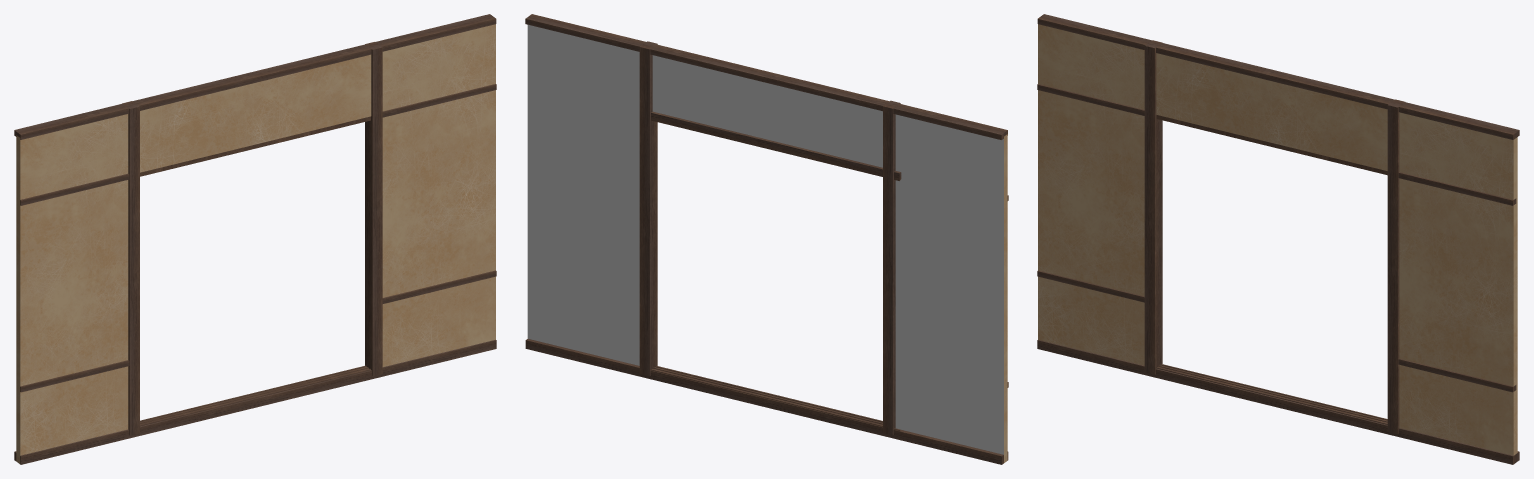
The model's file is jov_outwall01_2t_to_b1.fbx.
3 views of the same model, side by side, from view 1: azimuth 30°, elevation 25°; view 2: azimuth 150°, elevation 25°; view 3: azimuth 330°, elevation 25° (orthographic).
Visible parts, largest first — view 1: jov_outwall01_2t_to_b1; view 2: jov_outwall01_2t_to_b1; view 3: jov_outwall01_2t_to_b1.
Boxes of the visible parts, x1,y1,x2,y2 form: jov_outwall01_2t_to_b1: [14, 14, 496, 464]; jov_outwall01_2t_to_b1: [525, 14, 1008, 464]; jov_outwall01_2t_to_b1: [1037, 14, 1519, 464].
Bounding box in the file's own units: 440 × 292 × 12.44.
